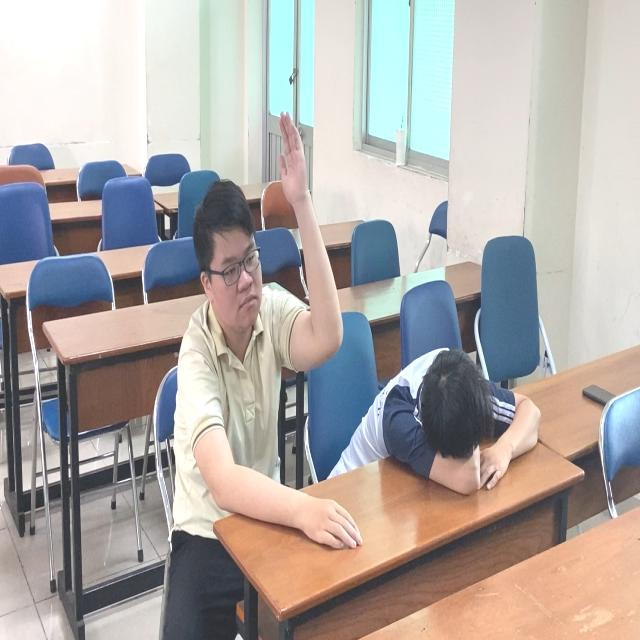raise_hand: (168, 102, 342, 566)
sleep: (352, 342, 550, 501)
